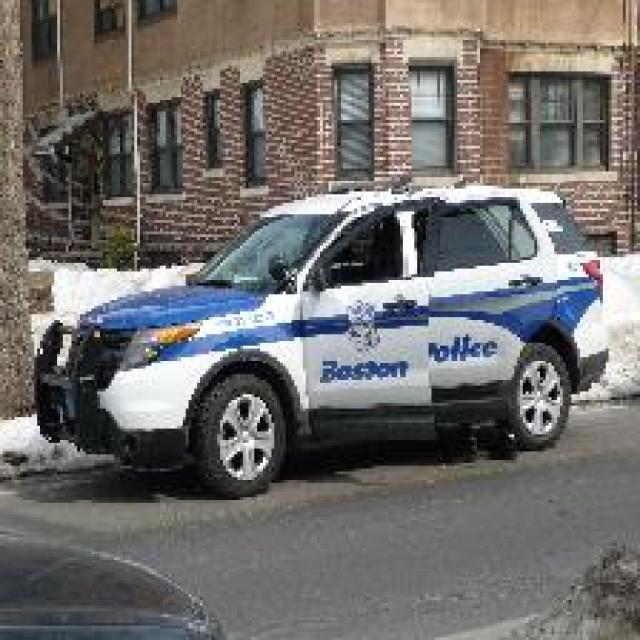emergency: (31, 172, 608, 498)
